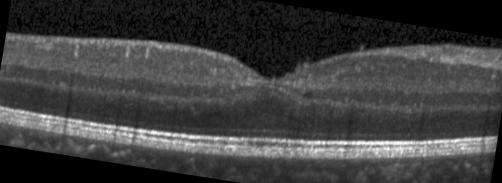intraretinal_cyst: (302, 91, 315, 98)
